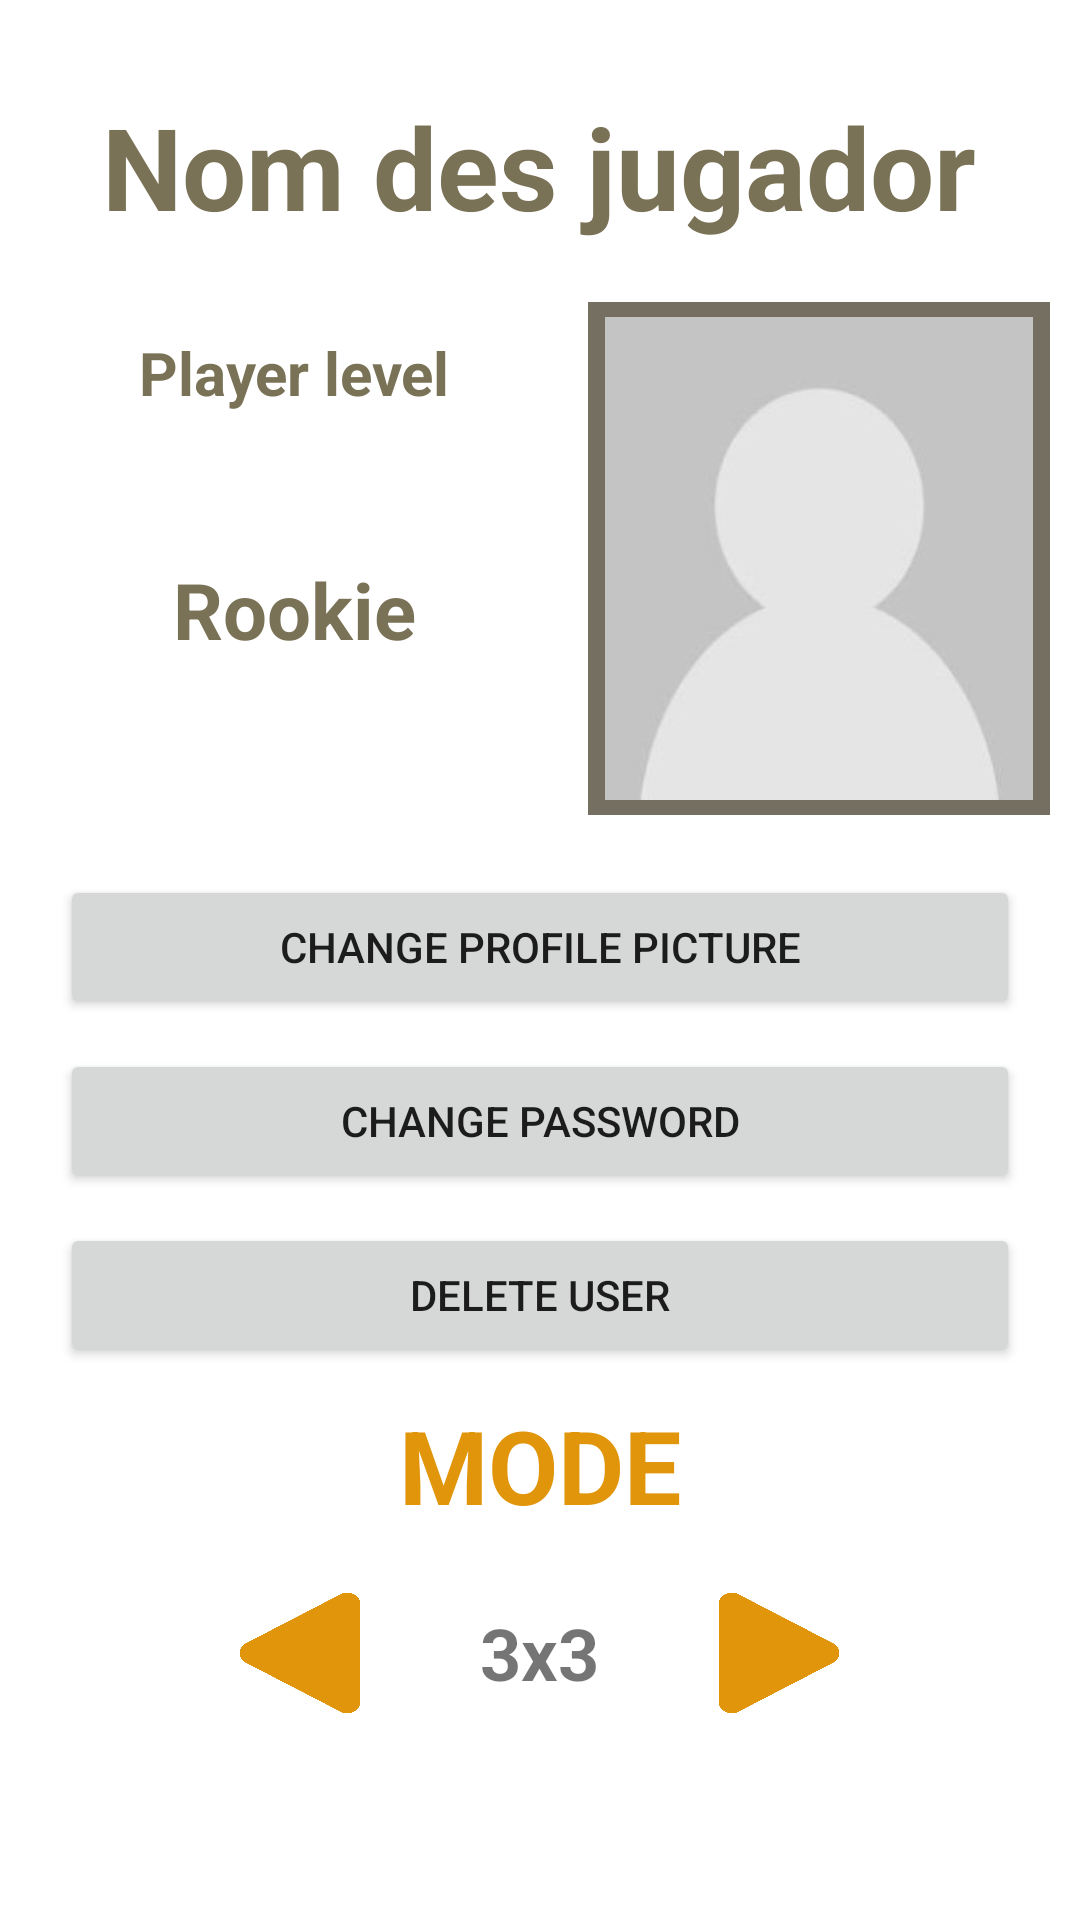

Named icons in this screenshot (1080*1920) and their centers, point (x, y):
back: point (300, 1653)
next: point (779, 1653)
